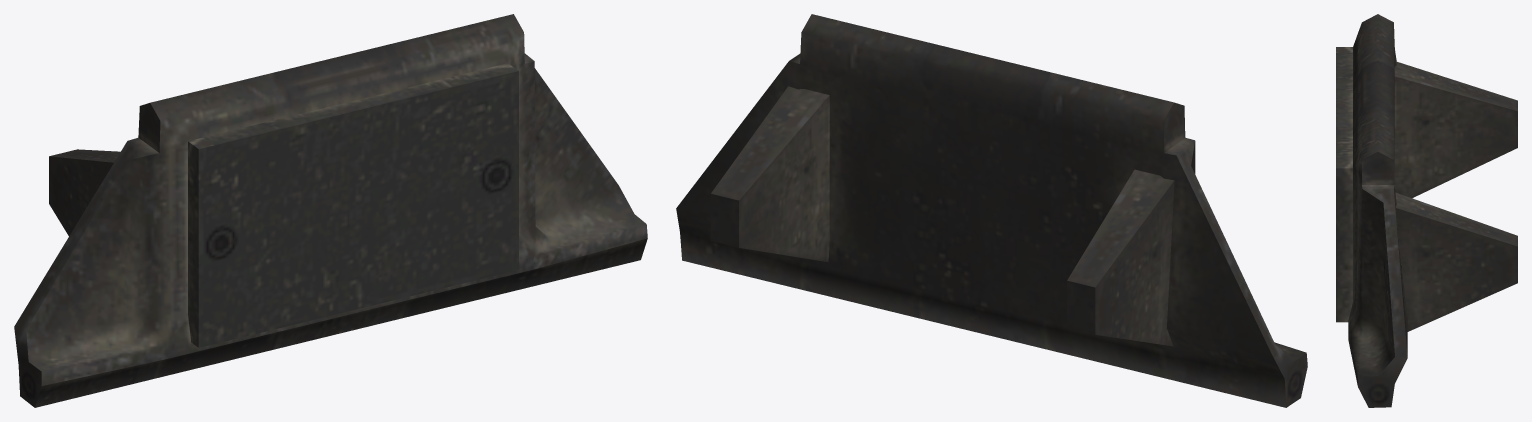
3 renders of one model, left to right at view 1: azimuth 30°, elevation 25°; view 2: azimuth 150°, elevation 25°; view 3: azimuth 270°, elevation 25°, orthographic. The views are drawn at different scales.
Visible parts, largest first — view 1: set_0_group_0; view 2: set_0_group_0; view 3: set_0_group_0.
Boxes of the visible parts, left/top/right/bottom form: set_0_group_0: left=14, top=14, right=647, bottom=407; set_0_group_0: left=676, top=14, right=1307, bottom=407; set_0_group_0: left=1336, top=14, right=1517, bottom=407.
Size of the model in its own units: 0.5723 by 0.2449 by 0.1916.
1 material, 1 textured.
